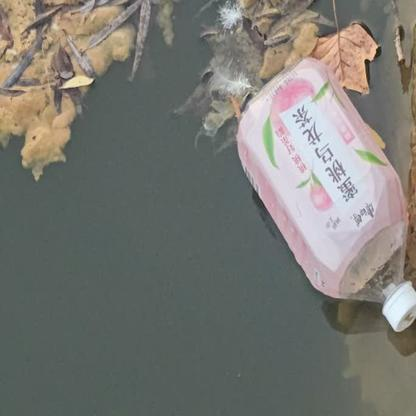plastic bottle: (237, 57, 416, 332)
